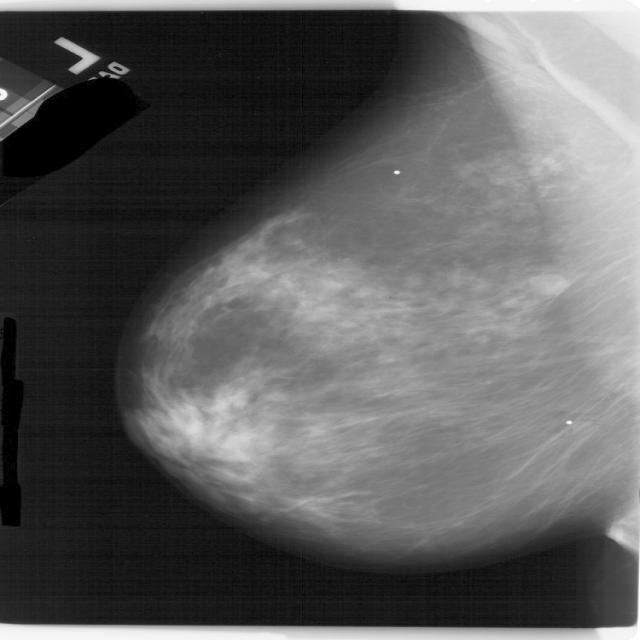tumour: (526, 271, 570, 294)
